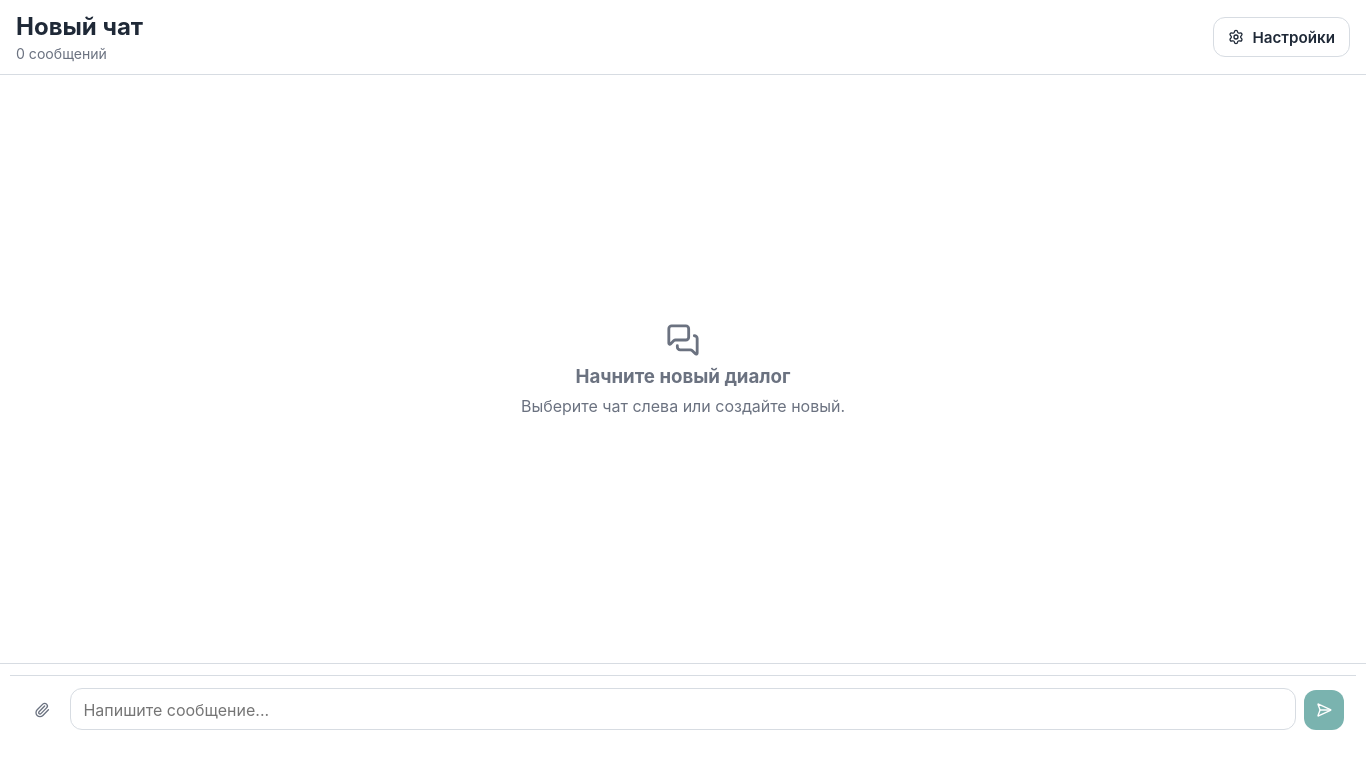
Test: ChatWindow › applies auto-title from first user message for new chat
Step 1. Type "   Первый   запрос   для   автоназвания " into the text box with placeholder "Напишите сообщение..." → {"x": 683, "y": 709}, box [70,688,1296,730]
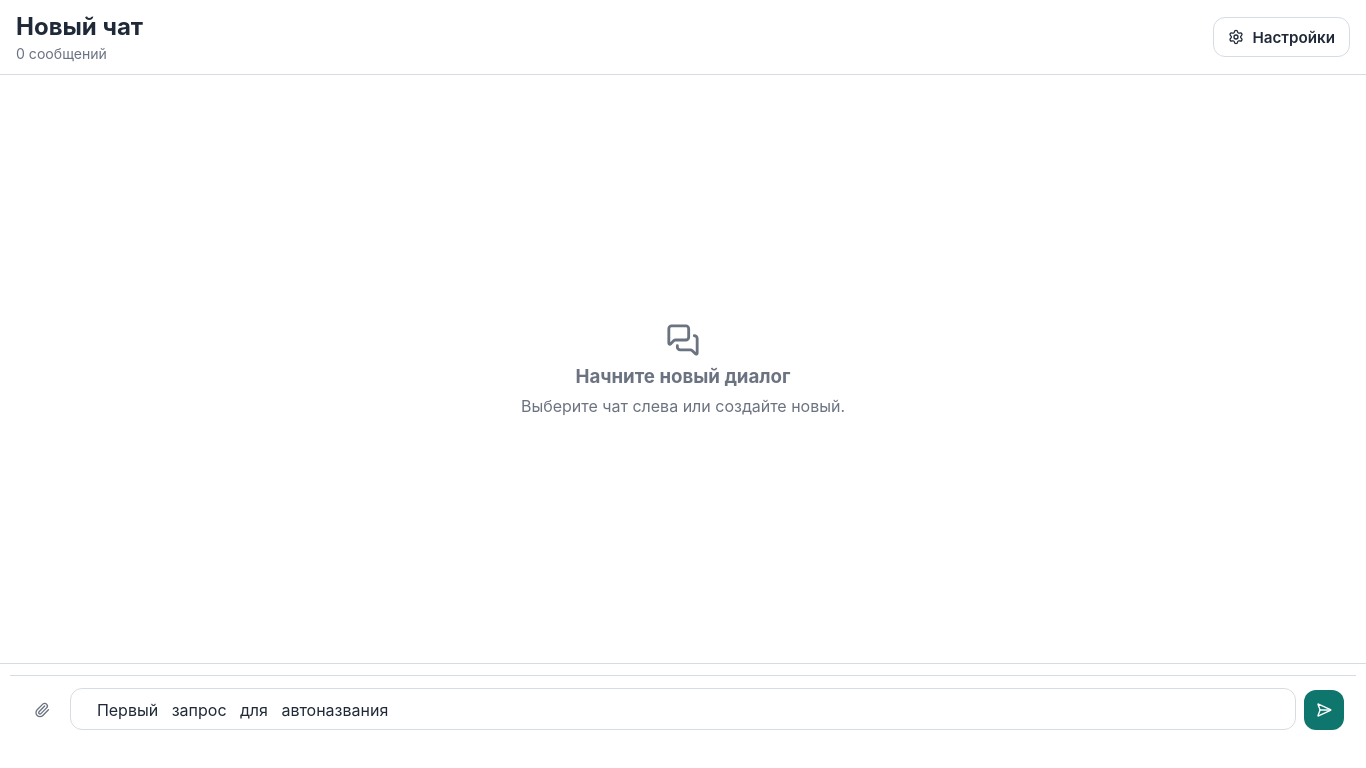
Step 2. Submit the form with placeholder "Напишите сообщение...", box [10,675,1356,758]
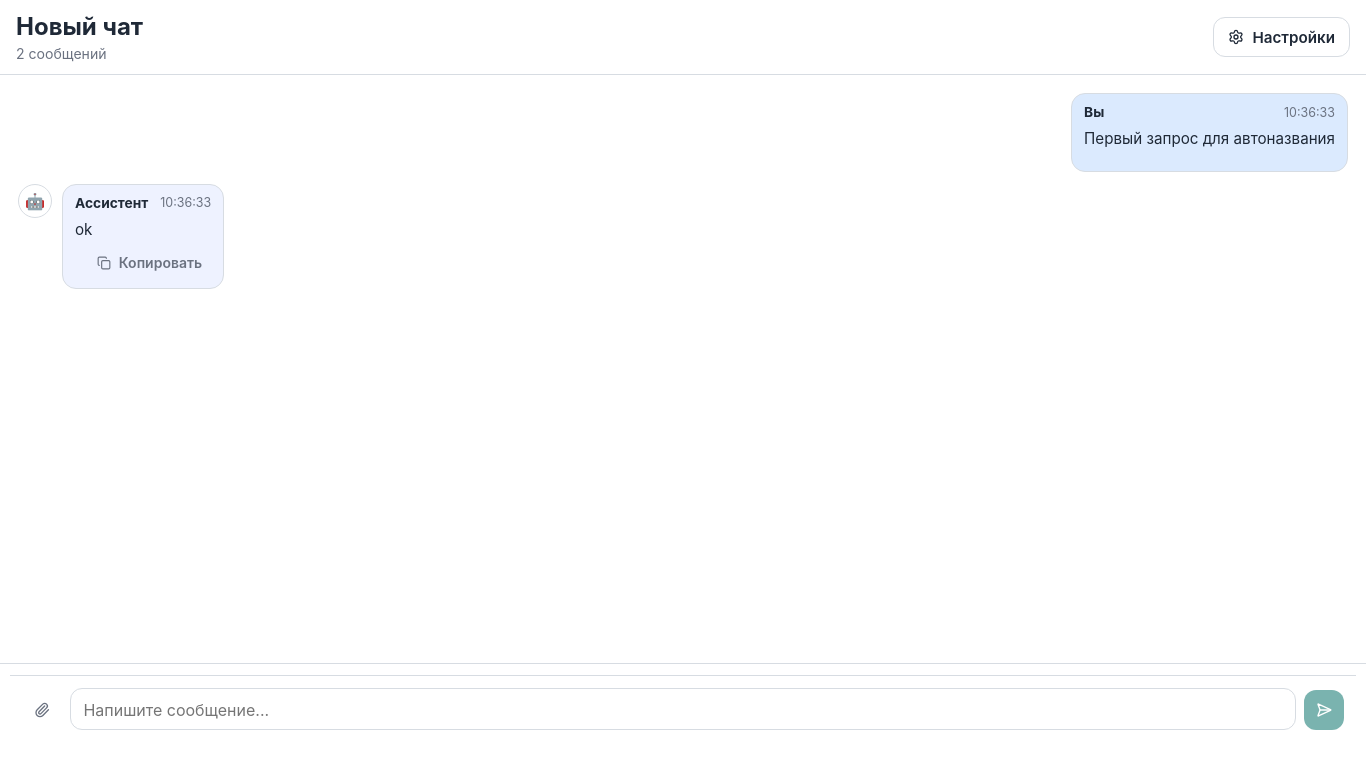
Expected: the text "ok" is shown, [75,220,92,239]
Expected: the text "Первый запрос для автоназвания" is shown, [1084,128,1335,151]
